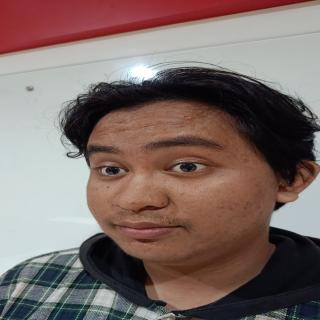Takut: (78, 103, 291, 271)
